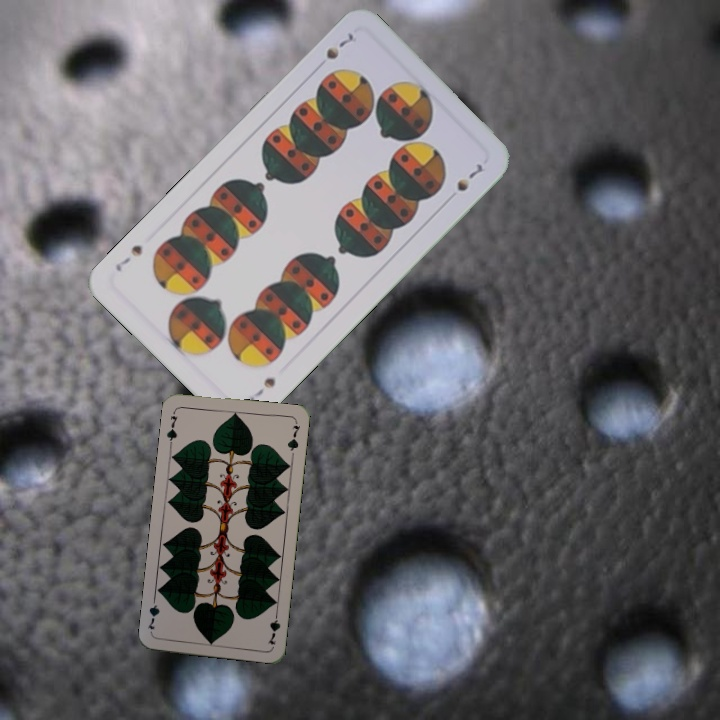G7: (264, 607, 283, 647), (163, 407, 180, 447)
S7: (322, 29, 359, 63), (245, 373, 278, 407)
